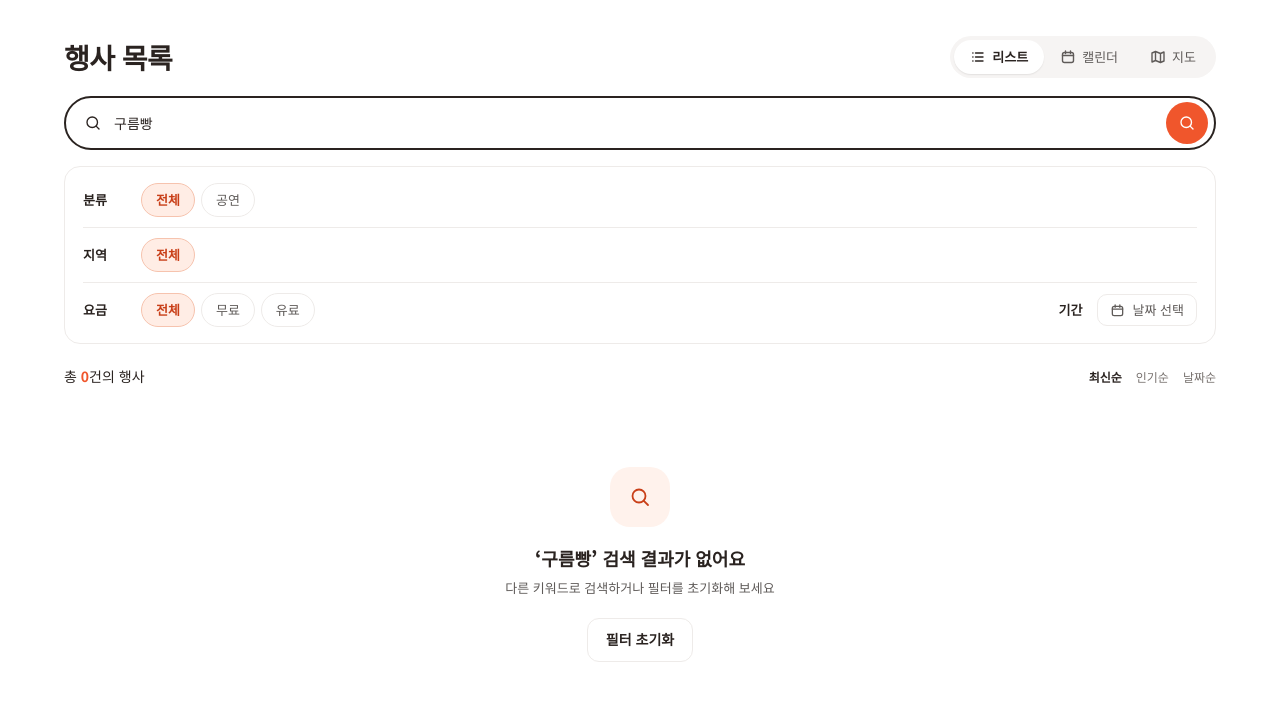
it: EventList › 결과가 없으면 B2 빈 상태와 필터 초기화를 보여준다
Expected: the heading "‘구름빵’ 검색 결과가 없어요" is shown, [535, 545, 745, 571]
Step 1. Click the button "필터 초기화" → {"x": 640, "y": 640}, box [587, 618, 693, 662]
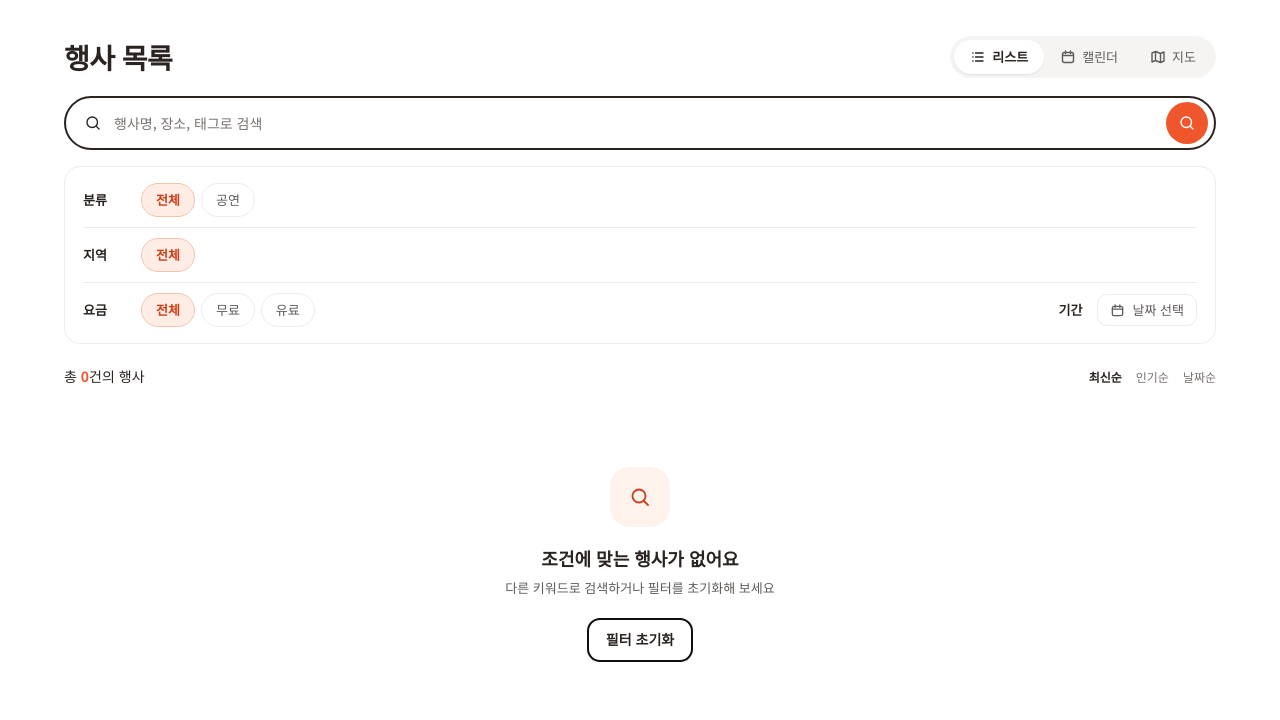
Expected: the heading "검색 결과가 없어요" is gone
